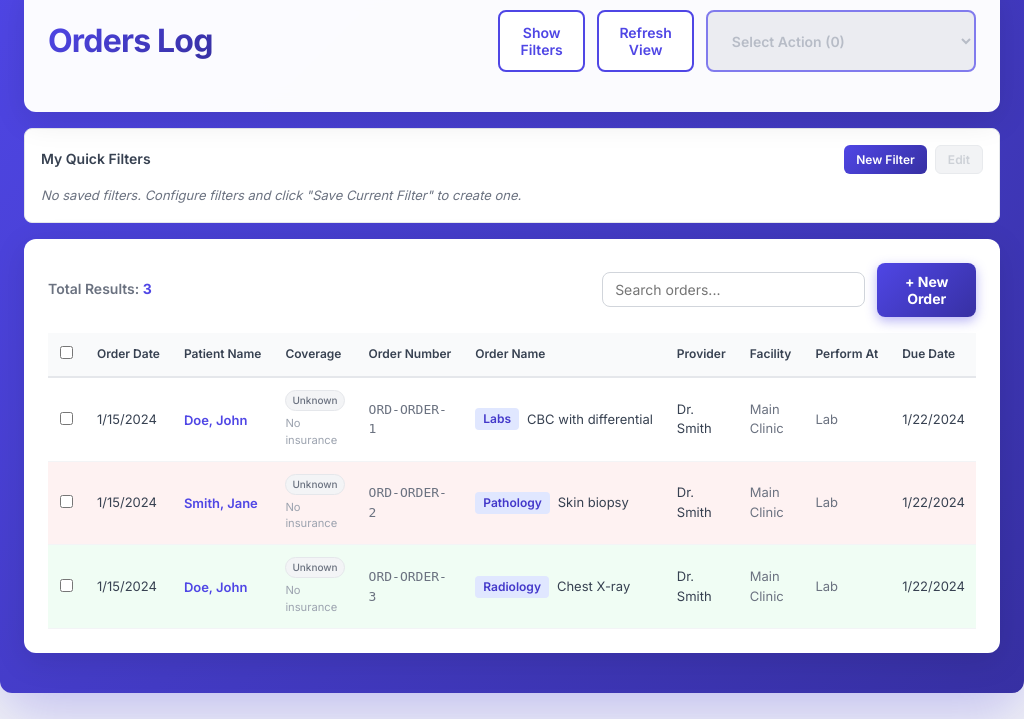
Test: OrdersPageEnhanced › groups orders by patient
This screenshot has width=1024, height=719.
Expected: the text "CBC with differential" is shown, [527, 410, 653, 429]
Click the button "Show Filters" at (542, 41), box [498, 10, 585, 72]
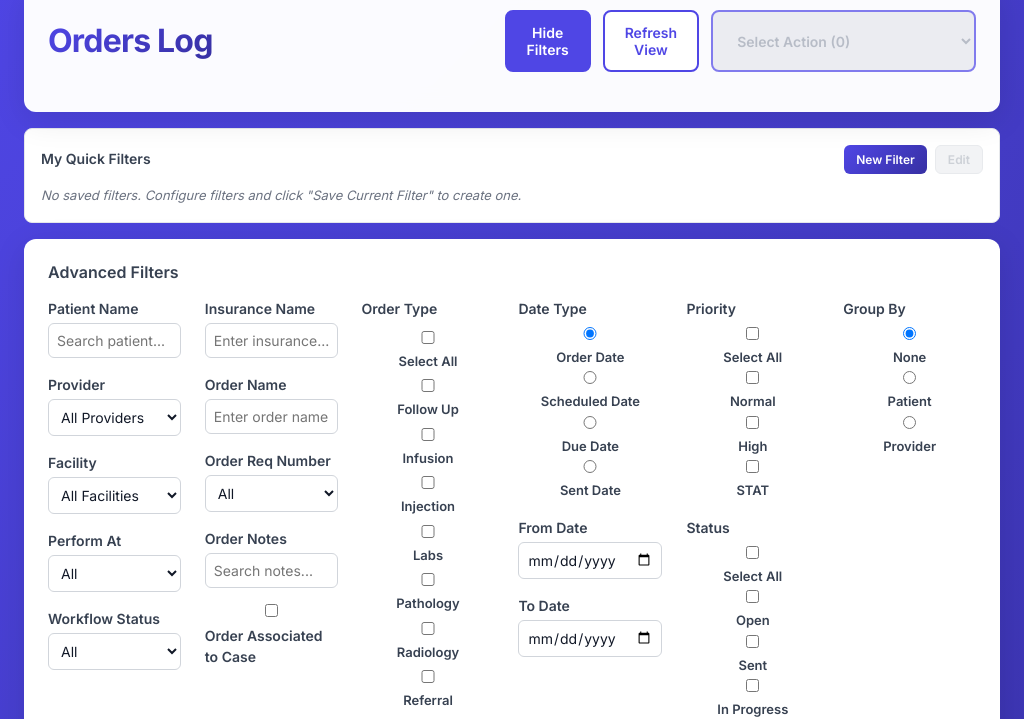
Select Patient grouping
Click the radio button labelled "Patient" at (910, 378), box [843, 371, 976, 384]
(page scrolled)
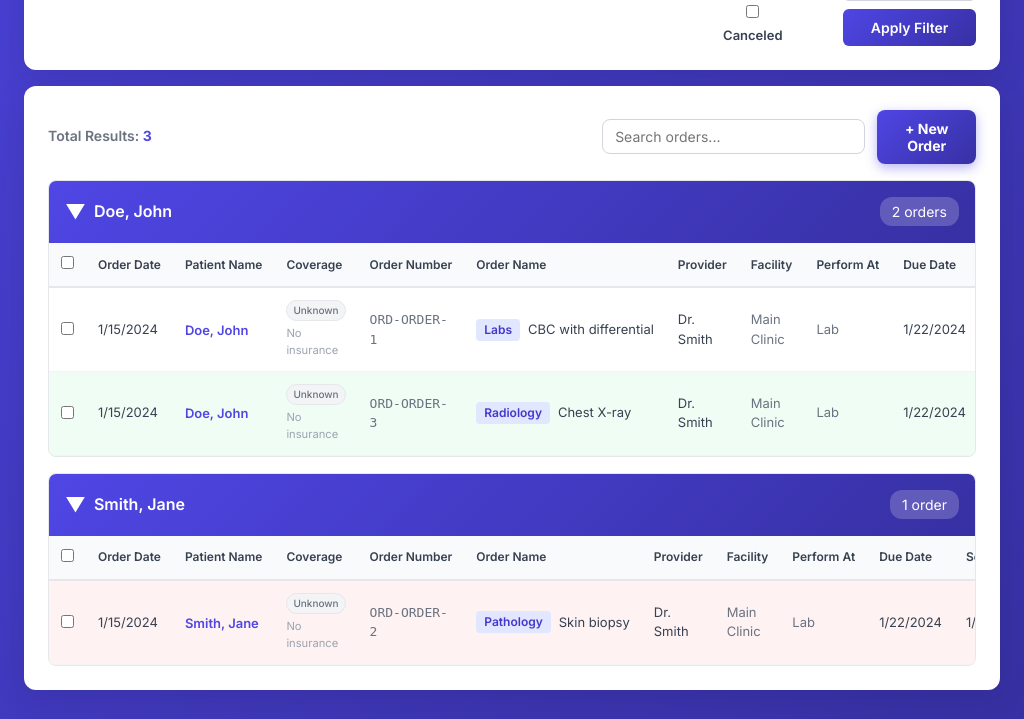
Result: the heading "Doe, John" is shown at [94, 202, 172, 222]
Result: the heading "Smith, Jane" is shown at [94, 495, 185, 514]
